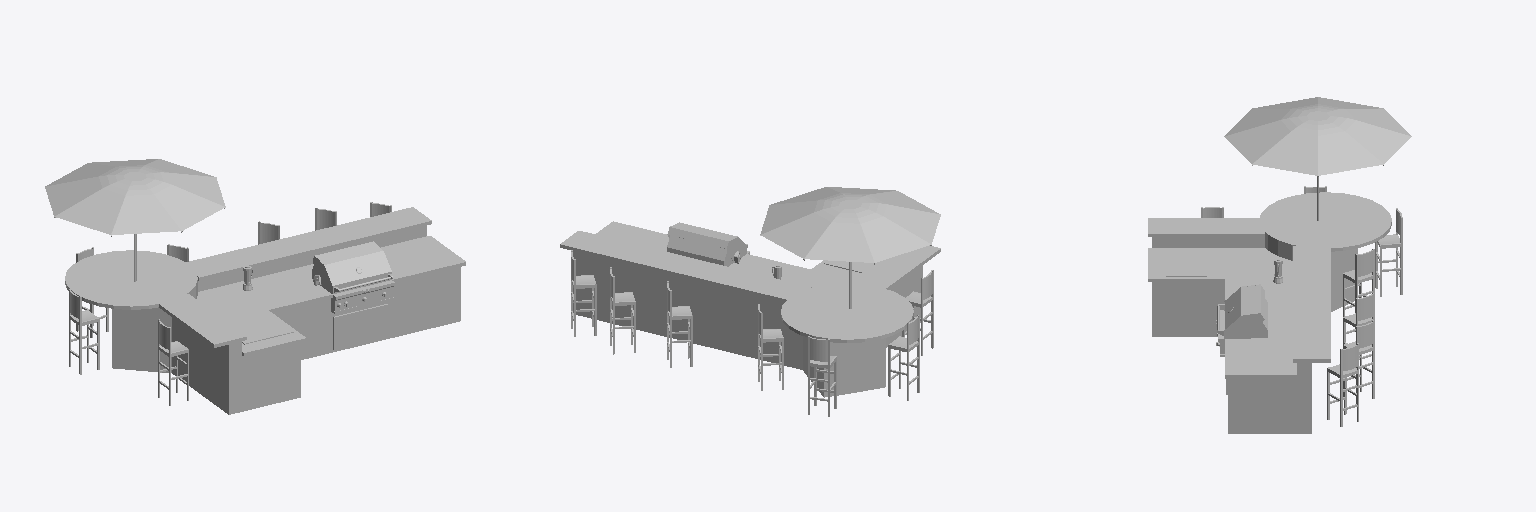
3 views of the same model, side by side, from view 1: azimuth 30°, elevation 25°; view 2: azimuth 150°, elevation 25°; view 3: azimuth 270°, elevation 25° (orthographic).
Parts seen in each view (by area): view 1: Layer0_001, Group_3_001, Component_16_011, Component_16_009, Component_16_013, Component_16_007, Bar_Stool_002, Component_16_015, Bar_Stool_001, Group_11_001, Component_16_005, Component_16_001; view 2: Layer0_001, Component_16_005, Component_16_007, Component_16_003, Component_16_009, Bar_Stool_003, Bar_Stool_002, Component_16_001, Group_15_001, Bar_Stool_006, Bar_Stool_007, Bar_Stool_001 (+5 smaller); view 3: Layer0_001, Component_16_001, Component_16_015, Component_16_013, Component_16_003, Bar_Stool_007, Group_3_001, Bar_Stool_003, Bar_Stool_004, Bar_Stool_005, Component_16_011, Component_16_005 (+2 smaller).
Part boxes in pixels (x1,y1,x2,y2): Layer0_001: (65, 207, 465, 414); Group_3_001: (316, 242, 390, 293); Component_16_011: (112, 180, 181, 234); Component_16_009: (55, 179, 132, 234); Component_16_013: (141, 178, 224, 230); Component_16_007: (45, 175, 126, 216); Bar_Stool_002: (69, 289, 99, 374); Component_16_015: (144, 172, 225, 206); Bar_Stool_001: (158, 319, 188, 405); Group_11_001: (333, 280, 394, 311); Component_16_005: (45, 163, 129, 186); Component_16_001: (138, 159, 213, 176); Layer0_001: (560, 221, 940, 397); Component_16_005: (805, 208, 874, 262); Component_16_007: (853, 206, 931, 262); Component_16_003: (761, 206, 844, 258); Component_16_009: (860, 203, 940, 243); Bar_Stool_003: (808, 336, 836, 416); Bar_Stool_002: (888, 315, 919, 400); Component_16_001: (760, 200, 841, 234); Group_15_001: (667, 235, 732, 266); Bar_Stool_006: (667, 281, 692, 367); Bar_Stool_007: (571, 250, 596, 336); Bar_Stool_001: (902, 270, 933, 355); Layer0_001: (1148, 192, 1391, 433); Component_16_001: (1318, 119, 1383, 175); Component_16_015: (1252, 119, 1317, 175); Component_16_013: (1225, 116, 1310, 163); Component_16_003: (1325, 116, 1411, 163); Bar_Stool_007: (1327, 343, 1358, 426); Group_3_001: (1225, 285, 1264, 328); Bar_Stool_003: (1375, 208, 1402, 296); Bar_Stool_004: (1343, 249, 1374, 331); Bar_Stool_005: (1343, 320, 1374, 403); Component_16_011: (1224, 109, 1309, 136); Component_16_005: (1326, 108, 1410, 135).
Bounding box in the file's own units: 222 × 105 × 138.